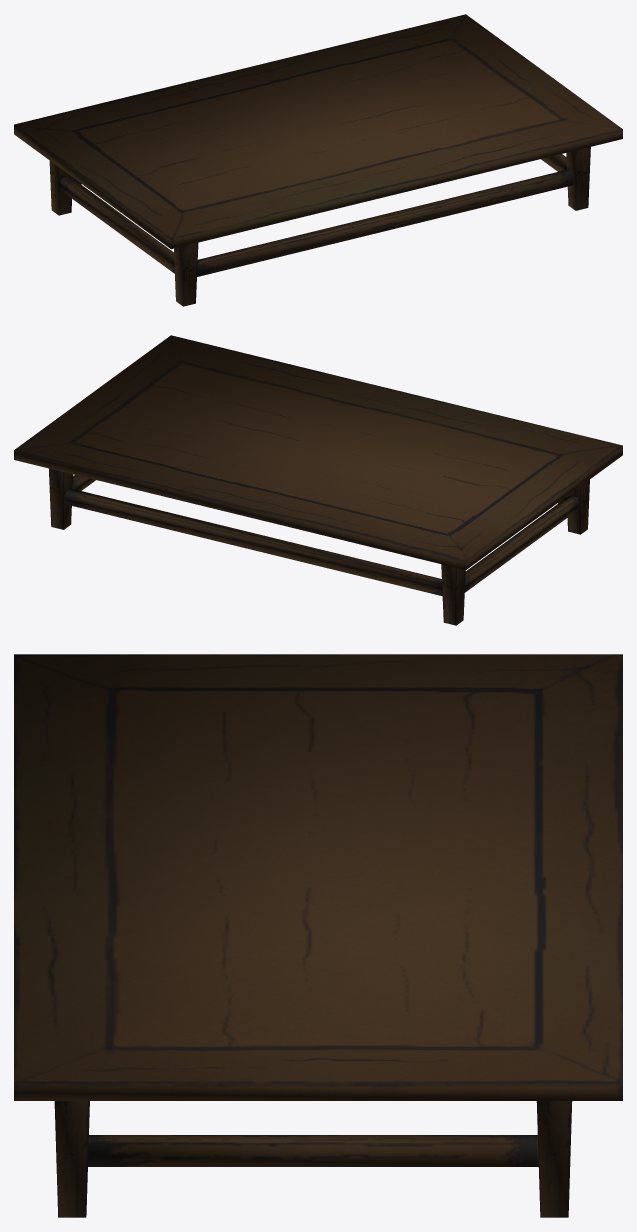
The model's file is Table.fbx.
3 views of the same model, one above another, from view 1: azimuth 30°, elevation 25°; view 2: azimuth 150°, elevation 25°; view 3: azimuth 270°, elevation 25° (orthographic). The views are drawn at different scales.
Visible parts, largest first — view 1: coffee_table; view 2: coffee_table; view 3: coffee_table.
Part boxes in pixels (<box>): coffee_table: <box>14,14,622,306</box>; coffee_table: <box>14,335,622,625</box>; coffee_table: <box>14,654,622,1217</box>.
Bounding box in the file's own units: 260 × 44.62 × 156.
